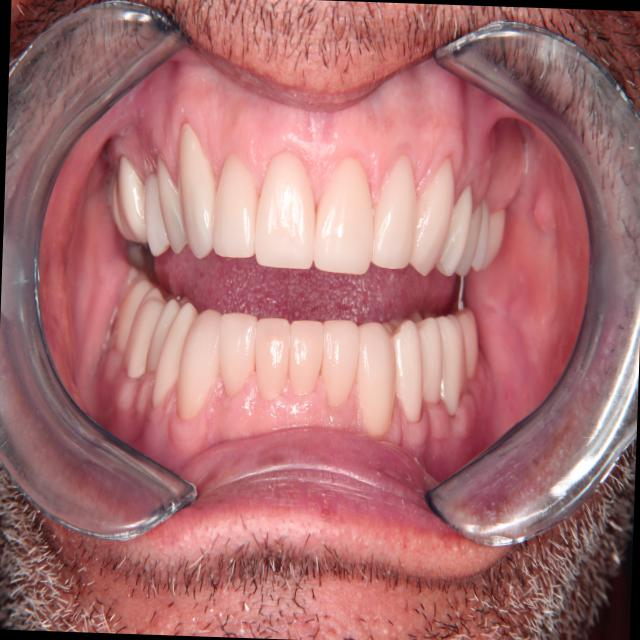tooth: (167, 113, 228, 265), (307, 148, 377, 278), (253, 144, 320, 278), (401, 149, 457, 285), (171, 299, 230, 426), (369, 144, 421, 281), (206, 145, 265, 265), (348, 309, 400, 443), (146, 296, 205, 411), (375, 312, 429, 429), (114, 284, 175, 386), (312, 310, 364, 417), (430, 305, 475, 420), (430, 174, 475, 280), (214, 301, 262, 400), (151, 148, 192, 261), (104, 271, 155, 356), (251, 310, 294, 407), (113, 150, 152, 248), (410, 311, 446, 417), (285, 313, 327, 401), (144, 292, 185, 377), (140, 163, 173, 262), (454, 196, 485, 280), (453, 300, 483, 386), (479, 203, 509, 273), (105, 173, 132, 247), (472, 192, 492, 276)
